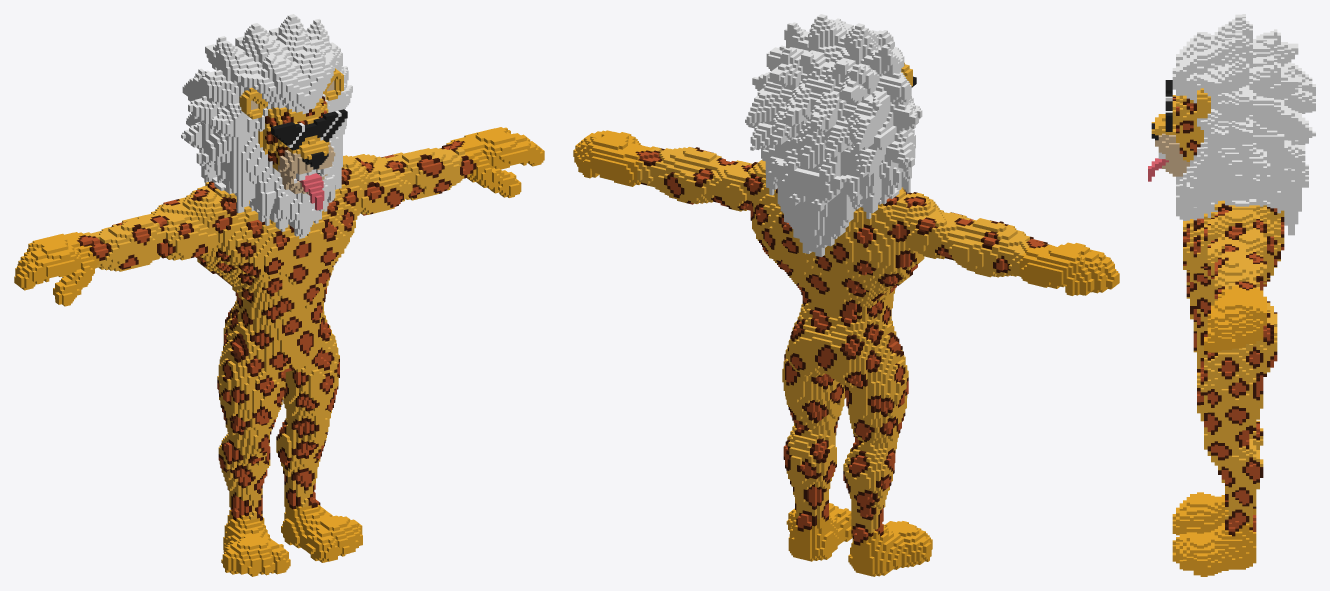
The model's file is 859-SOpmWU3i.glb.
3 renders of one model, left to right at view 1: azimuth 30°, elevation 25°; view 2: azimuth 150°, elevation 25°; view 3: azimuth 270°, elevation 25°, orthographic. The views are drawn at different scales.
Visible parts, largest first — view 1: tongue_out; view 2: tongue_out; view 3: tongue_out.
Part boxes in pixels (x1=…): tongue_out: x1=14, y1=14, x2=544, y2=576; tongue_out: x1=573, y1=14, x2=1119, y2=576; tongue_out: x1=1148, y1=14, x2=1315, y2=576.
Bounding box in the file's own units: 17.2 × 16.5 × 4.8.
Materials: 4 (4 with a texture image).
